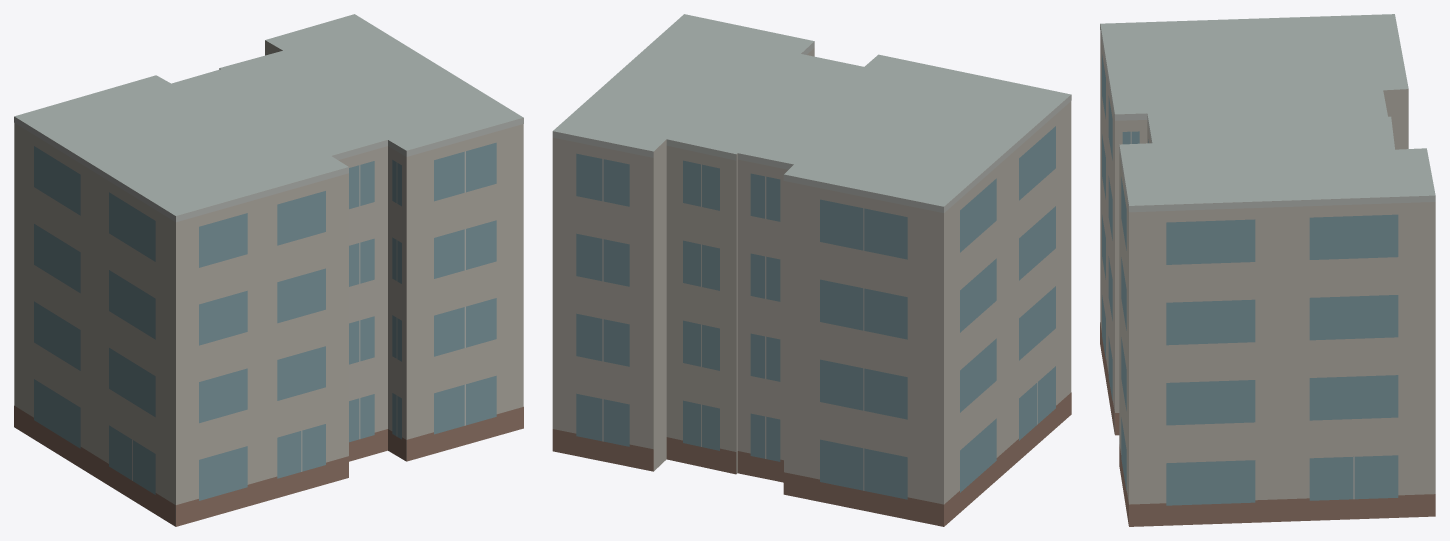
File: survey-upis-32958341.glb
3 views of the same model, side by side, from view 1: azimuth 30°, elevation 25°; view 2: azimuth 150°, elevation 25°; view 3: azimuth 270°, elevation 25° (orthographic). The views are drawn at different scales.
Parts seen in each view (by area): view 1: survey-upis-32958341.tmp; view 2: survey-upis-32958341.tmp; view 3: survey-upis-32958341.tmp.
Boxes of the visible parts, bbox=[...] form: survey-upis-32958341.tmp: bbox=[14, 14, 523, 526]; survey-upis-32958341.tmp: bbox=[552, 14, 1071, 526]; survey-upis-32958341.tmp: bbox=[1100, 14, 1435, 526].
Size of the model in its own units: 15.66 by 12.2 by 11.57.
